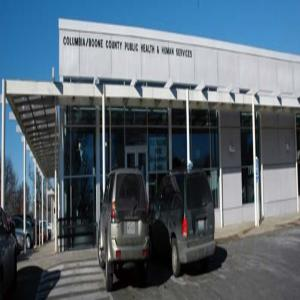Vehicle-registration-plate: (127, 218, 136, 239), (198, 214, 206, 229)
